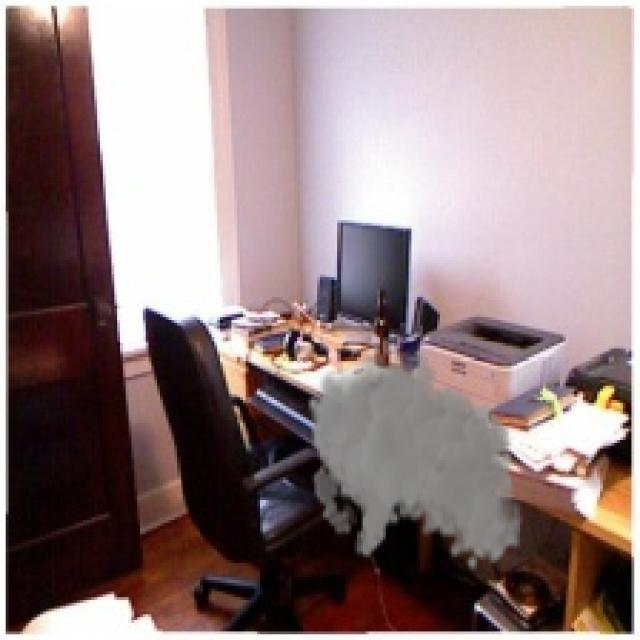Smoke: (306, 339, 523, 572)
